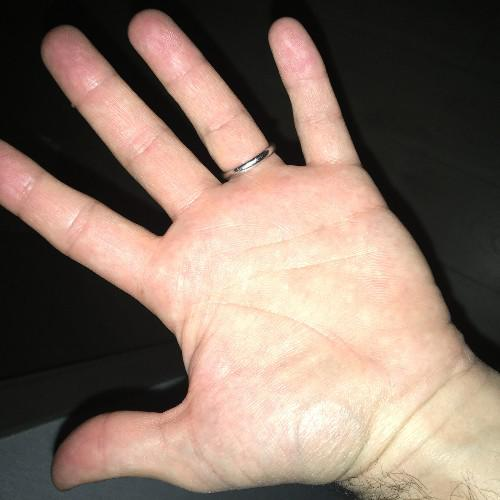paper: (0, 4, 468, 498)
